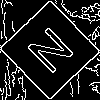N: (25, 25, 84, 84)
